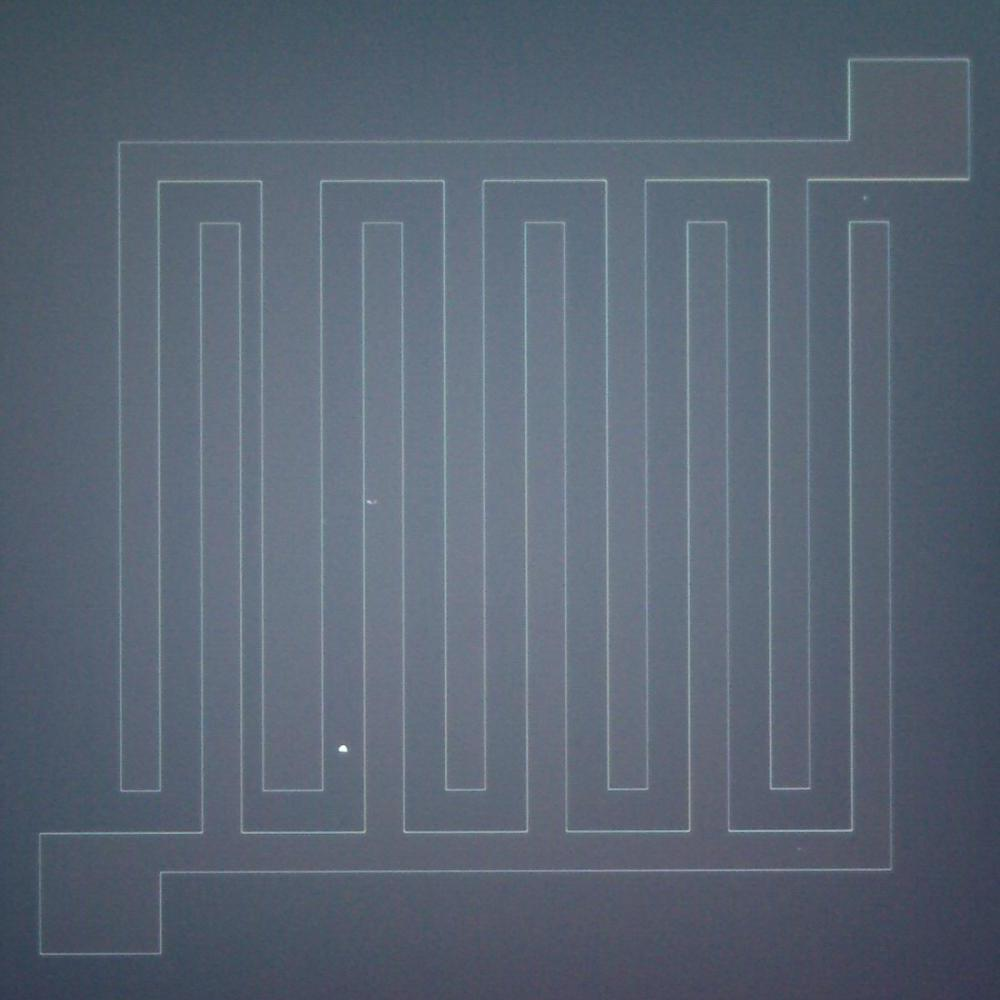fat circuit: (256, 168, 330, 796)
spot: (332, 734, 354, 761)
